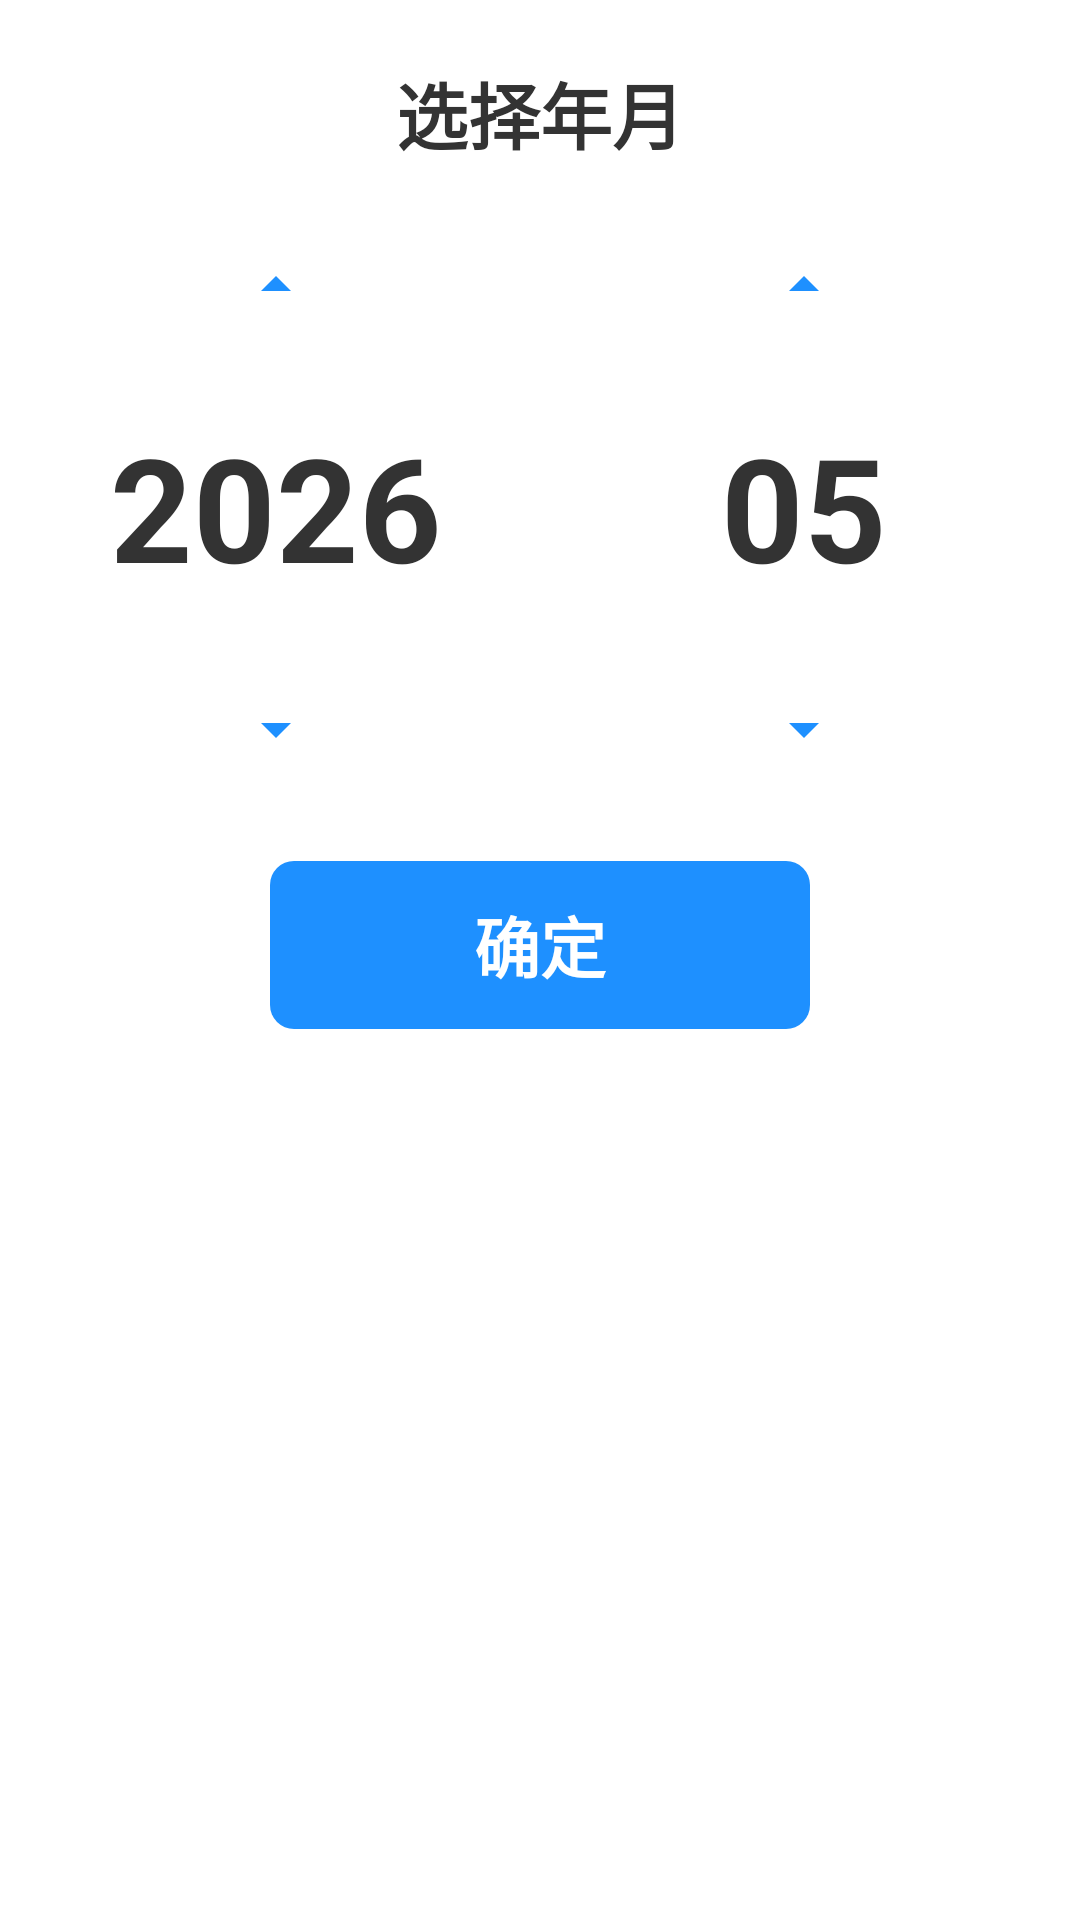

Screen size 1080 × 1920. Icon name, then its center in pixels as [x,y]:
arrow down: [276,730], [804,730]
arrow up: [276,283], [804,283]
